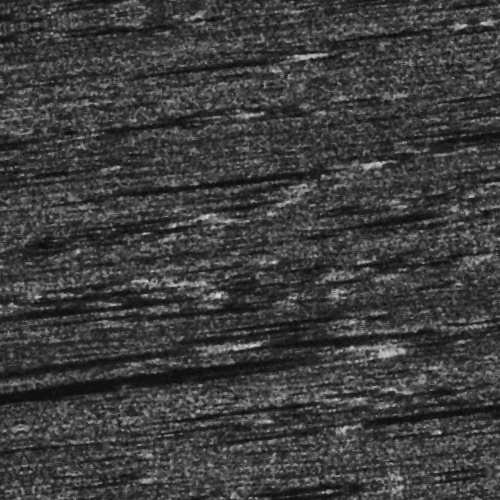object: (146, 281, 261, 294), (150, 269, 223, 278), (172, 336, 245, 345), (432, 228, 500, 237), (46, 4, 99, 13), (345, 173, 418, 178), (312, 325, 343, 336), (291, 403, 332, 410), (220, 109, 273, 114), (296, 59, 349, 64), (96, 145, 137, 150), (345, 363, 376, 368), (458, 49, 489, 52), (333, 321, 344, 328)
shadow: (221, 428, 500, 439), (0, 281, 203, 294), (0, 336, 208, 345), (118, 403, 311, 410), (213, 325, 327, 336), (0, 109, 246, 114), (154, 173, 382, 178), (63, 269, 186, 278), (186, 321, 339, 328), (365, 228, 474, 237), (169, 59, 322, 64), (0, 4, 72, 13), (0, 145, 116, 150), (327, 49, 473, 52), (323, 363, 360, 368), (475, 454, 500, 461)
